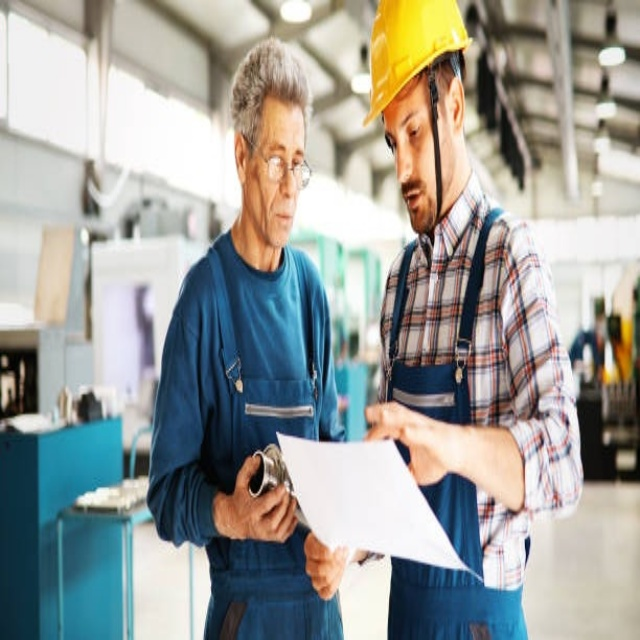Gafas: (246, 129, 313, 192)
Sin_gafas: (382, 97, 428, 153)
Sin_guantes: (360, 405, 451, 489), (226, 454, 299, 545), (301, 532, 351, 601)
Sin_mascara: (398, 178, 430, 234), (269, 194, 297, 246)
